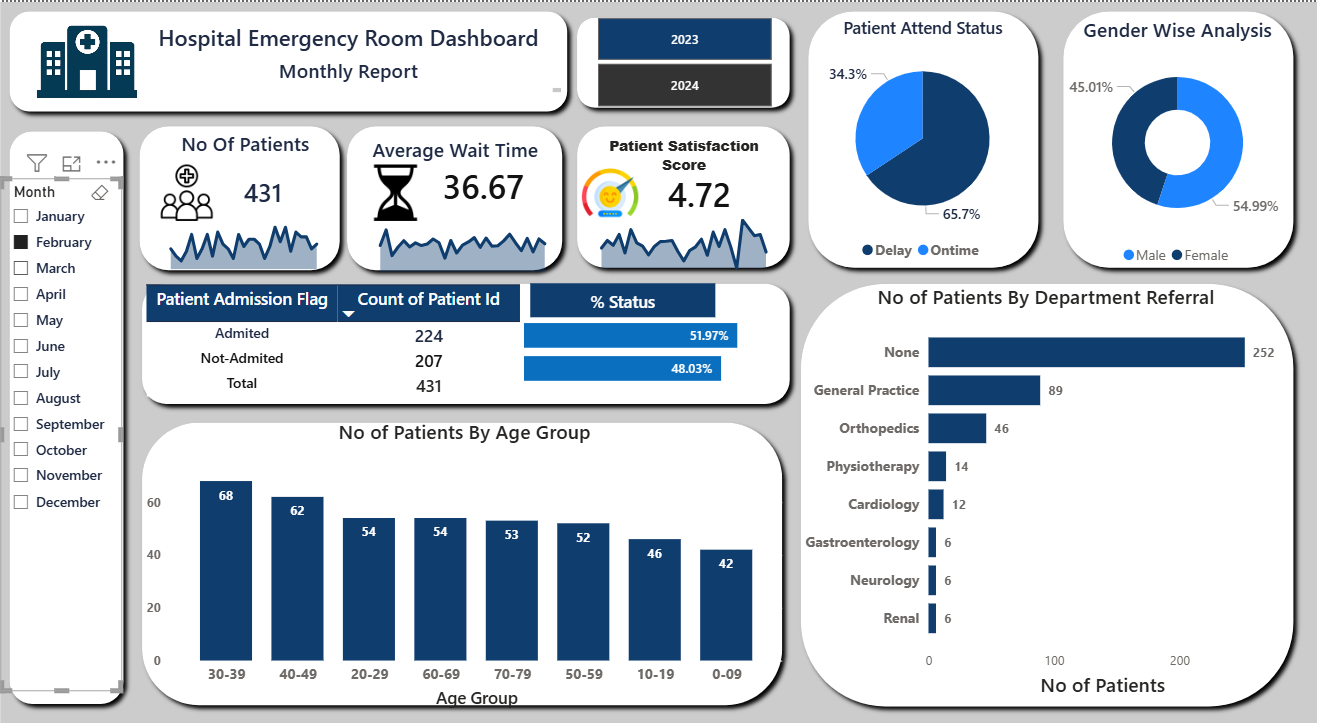

This screenshot's page, from the dashboard's own definition file:
{"tool":"powerbi","page":{"name":"Dashboard","canvas":[1280,720],"ordinal":1},"visuals":[{"type":"areaChart","fields":{"Category":["Hospital Emergency Room Data.Patient Age"]},"box":[11,0,1269.3,697],"z":0},{"type":"shape","box":[10.8,0,555.4,114.5],"z":1000},{"type":"shape","box":[557.8,6,222.9,104.8],"z":2000},{"type":"shape","box":[780.7,0,239.8,265.1],"z":3000},{"type":"shape","box":[10.8,115.7,127.7,569.9],"z":5000},{"type":"shape","box":[136.1,110.8,210.8,156.6],"z":6000},{"type":"shape","box":[336.1,110.8,225.3,156.6],"z":7000},{"type":"shape","box":[557.8,110.8,222.9,154.2],"z":8000},{"type":"shape","box":[138.6,396.4,634.9,290.4],"z":9000},{"type":"shape","box":[138.6,262.7,642.2,133.7],"z":10000},{"type":"shape","box":[773.5,262.7,492.8,425.3],"z":11000},{"type":"textbox","title":"Hospital Emergency Room Dashboard","box":[136.1,13.3,420.5,78.3],"z":12000},{"type":"image","box":[26.5,6,133.7,104.8],"z":13000},{"type":"textbox","box":[157.8,116.9,178.3,39.8],"z":14000},{"type":"textbox","box":[347,122.9,204.8,38.6],"z":15000},{"type":"textbox","box":[169,187.5,187.5,66],"z":16000},{"type":"cardVisual","fields":{"Data":["Count(Hospital Emergency Room Data.Patient Id)"]},"box":[220.5,156.6,115.7,54.2],"z":17000},{"type":"cardVisual","fields":{"Data":["Avg(Hospital Emergency Room Data.Patient Waittime)"]},"box":[408.4,144.6,148.2,66.3],"z":18000},{"type":"cardVisual","fields":{"Data":["Avg(Hospital Emergency Room Data.Patient Satisfaction Score)"]},"box":[625.3,151.8,148.2,66.3],"z":19000},{"type":"textbox","box":[569.9,122.9,200,55.4],"z":20000},{"type":"image","box":[569.9,156.6,57.8,54.2],"z":21000},{"type":"image","box":[160.2,156.6,60.2,54.2],"z":22000},{"type":"image","box":[361.4,156.6,60.2,54.2],"z":23000},{"type":"columnChart","title":"No of Patients By Age Group","fields":{"Category":["Hospital Emergency Room Data.Age Group"],"Y":["CountNonNull(Hospital Emergency Room Data.Age Group)"]},"box":[147,401.2,622.9,284.3],"z":31000},{"type":"pieChart","title":"Patient Attend Status","fields":{"Category":["Hospital Emergency Room Data.Patient attend status"],"Y":["CountNonNull(Hospital Emergency Room Data.Patient attend status)"]},"box":[780.7,13.3,238.6,244.6],"z":33000},{"type":"barChart","title":"No of Patients By Department Referral","fields":{"Category":["Hospital Emergency Room Data.Department Referral"],"Y":["CountNonNull(Hospital Emergency Room Data.Department Referral)"]},"box":[780.7,271.1,475.9,403.6],"z":37000},{"type":"stackedAreaChart","fields":{"Category":["Calendar_Table.Date.Variation.Date Hierarchy.Day"],"Y":["Count(Hospital Emergency Room Data.Patient Id)"]},"box":[155.4,196.4,180.7,66.3],"z":40001},{"type":"slicer","fields":{"Values":["Calendar_Table.Date.Variation.Date Hierarchy.Month"]},"box":[10.8,169.9,116.9,495.2],"z":40002},{"type":"stackedAreaChart","fields":{"Category":["Calendar_Table.Date.Variation.Date Hierarchy.Day"],"Y":["Avg(Hospital Emergency Room Data.Patient Waittime)"]},"box":[356.6,198.8,200,66.3],"z":40003},{"type":"stackedAreaChart","fields":{"Category":["Calendar_Table.Date.Variation.Date Hierarchy.Day"],"Y":["Avg(Hospital Emergency Room Data.Patient Satisfaction Score)"]},"box":[569.9,196.4,200,66.3],"z":40004},{"type":"shape","box":[1026.5,0,239.8,265.1],"z":40005},{"type":"donutChart","title":"Gender Wise Analysis","fields":{"Category":["Hospital Emergency Room Data.Patient Gender"],"Y":["CountNonNull(Hospital Emergency Room Data.Patient Gender)"]},"box":[1034.9,13.3,221.7,249.4],"z":40006},{"type":"pivotTable","fields":{"Rows":["Hospital Emergency Room Data.Patient Admission Flag"],"Values":["Count(Hospital Emergency Room Data.Patient Id)"]},"box":[147,267.5,622.9,120.5],"z":40007},{"type":"barChart","title":"% Status","fields":{"Y":["CountNonNull(Hospital Emergency Room Data.Patient Admission Flag)"],"Category":["Hospital Emergency Room Data.Patient Admission Flag"]},"box":[510.8,280.7,259,107.2],"z":40008},{"type":"textbox","box":[521.7,271.1,178.3,32.5],"z":40009},{"type":"slicer","fields":{"Values":["Calendar_Table.Date.Variation.Date Hierarchy.Year"]},"box":[566.3,13.3,207.2,89.2],"z":40010}]}

Visuals, with their boxes in screenshot pixels (x1, y1, x2, y2), scaled from the page's 1280x720 canvas onto the 1317x723 screenshot:
areaChart - Hospital Emergency Room Data.Patient Age: 11 0 1316 700
shape: 11 0 583 115
shape: 574 6 803 111
shape: 803 0 1050 266
shape: 11 116 143 688
shape: 140 111 357 269
shape: 346 111 578 269
shape: 574 111 803 266
shape: 143 398 796 690
shape: 143 264 803 398
shape: 796 264 1303 691
"Hospital Emergency Room Dashboard" textbox: 140 13 573 92
image: 27 6 165 111
textbox: 162 117 346 157
textbox: 357 123 568 162
textbox: 174 188 367 255
cardVisual - Count(Hospital Emergency Room Data.Patient Id): 227 157 346 212
cardVisual - Avg(Hospital Emergency Room Data.Patient Waittime): 420 145 573 212
cardVisual - Avg(Hospital Emergency Room Data.Patient Satisfaction Score): 643 152 796 219
textbox: 586 123 792 179
image: 586 157 646 212
image: 165 157 227 212
image: 372 157 434 212
"No of Patients By Age Group" columnChart: 151 403 792 688
"Patient Attend Status" pieChart: 803 13 1049 259
"No of Patients By Department Referral" barChart: 803 272 1293 678
stackedAreaChart - Calendar_Table.Date.Variation.Date Hierarchy.Day x Count(Hospital Emergency Room Data.Patient Id): 160 197 346 264
slicer - Calendar_Table.Date.Variation.Date Hierarchy.Month: 11 171 131 668
stackedAreaChart - Calendar_Table.Date.Variation.Date Hierarchy.Day x Avg(Hospital Emergency Room Data.Patient Waittime): 367 200 573 266
stackedAreaChart - Calendar_Table.Date.Variation.Date Hierarchy.Day x Avg(Hospital Emergency Room Data.Patient Satisfaction Score): 586 197 792 264
shape: 1056 0 1303 266
"Gender Wise Analysis" donutChart: 1065 13 1293 264
pivotTable - Hospital Emergency Room Data.Patient Admission Flag x Count(Hospital Emergency Room Data.Patient Id): 151 269 792 390
"% Status" barChart: 526 282 792 390
textbox: 537 272 720 305
slicer - Calendar_Table.Date.Variation.Date Hierarchy.Year: 583 13 796 103
